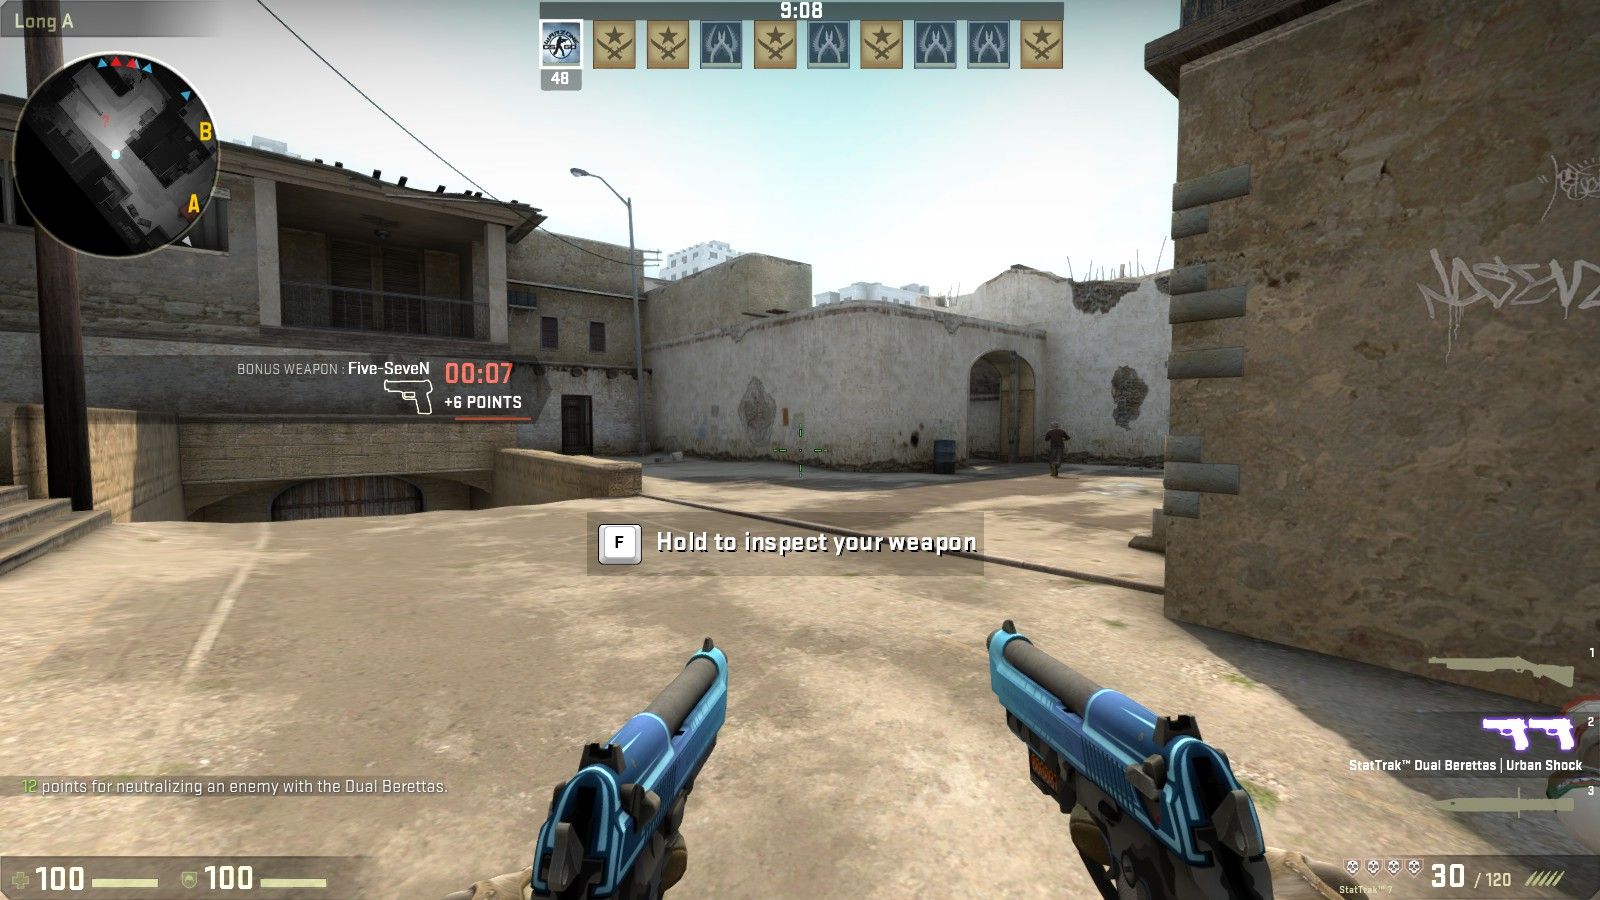t: (1045, 421, 1065, 477)
th: (1049, 421, 1060, 432)
